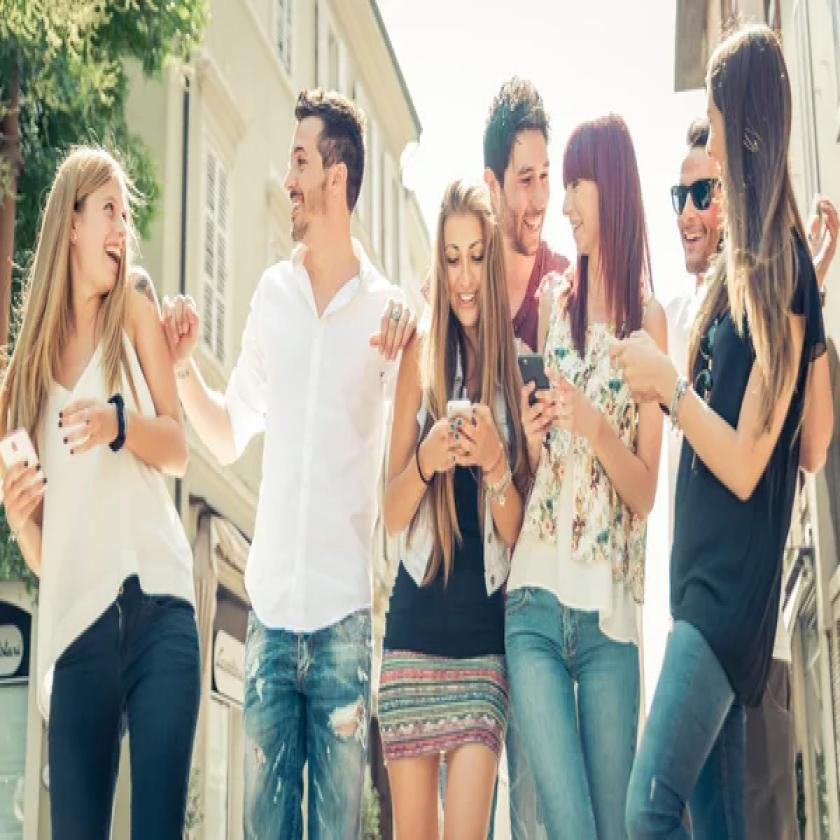Sin_casco: (710, 20, 809, 248), (22, 133, 143, 317), (276, 78, 370, 259), (477, 65, 554, 253), (563, 97, 642, 274), (428, 172, 503, 343), (669, 118, 716, 292)
